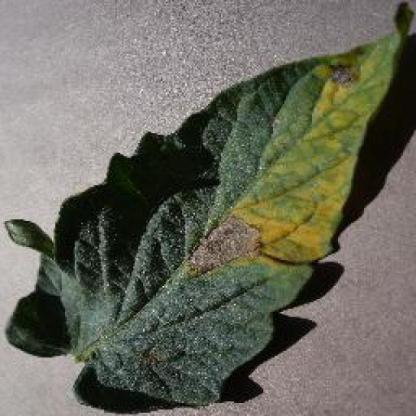Tomato_Blight: (4, 2, 416, 402)
